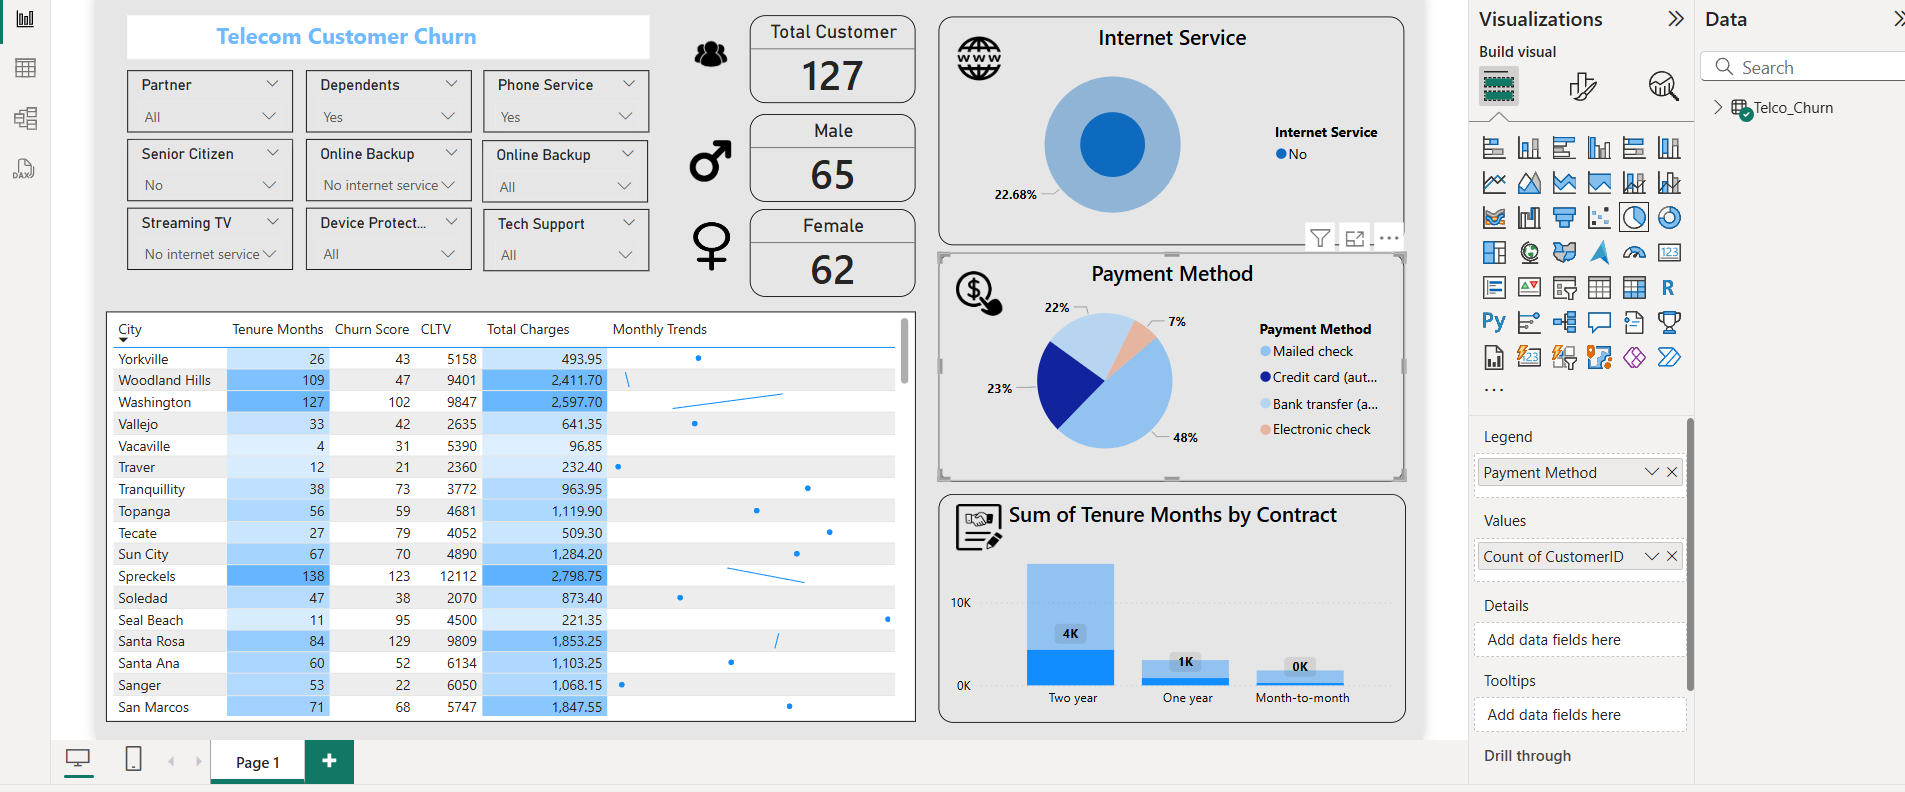

The page's visual inventory and layout, read from the dashboard file:
{"tool":"powerbi","page":{"name":"Page 1","canvas":[1280,720],"ordinal":0},"visuals":[{"type":"card","title":"Total Customer","fields":{"Values":["CountNonNull(Telco_Churn.CustomerID)"]},"box":[630.7,20.2,160.3,85],"z":0},{"type":"card","title":"Female","fields":{"Values":["CountNonNull(Telco_Churn.CustomerID)"]},"box":[630.7,207.6,160.3,84.7],"z":1000},{"type":"card","title":"Male","fields":{"Values":["CountNonNull(Telco_Churn.CustomerID)"]},"box":[630.7,116.2,160.3,84.7],"z":2000},{"type":"columnChart","fields":{"Category":["Telco_Churn.Contract"],"Y":["Sum(Telco_Churn.Tenure Months)"]},"box":[812.6,482,450.8,220.4],"z":3000},{"type":"pieChart","title":"Internet Service","fields":{"Category":["Telco_Churn.Internet Service"],"Y":["CountNonNull(Telco_Churn.CustomerID)"]},"box":[813.7,21.2,449.7,220.4],"z":4000},{"type":"pieChart","title":"Payment Method","fields":{"Y":["CountNonNull(Telco_Churn.CustomerID)"],"Category":["Telco_Churn.Payment Method"]},"box":[813.7,249.4,449.7,220.4],"z":5000},{"type":"tableEx","fields":{"Values":["Telco_Churn.City","Sum(Telco_Churn.Tenure Months)","Sum(Telco_Churn.Churn Score)","Sum(Telco_Churn.CLTV)","Sum(Telco_Churn.Total Charges)","SparklineData(Sum(Telco_Churn.Monthly Charges)_[Telco_Churn.Churn Score])"]},"box":[10,306.1,781.5,396.3],"z":6000},{"type":"slicer","fields":{"Values":["Telco_Churn.Senior Citizen"]},"box":[30.6,140.1,160.3,59.8],"z":7000},{"type":"slicer","fields":{"Values":["Telco_Churn.Partner"]},"box":[30.6,73.5,160,60],"z":8000},{"type":"slicer","fields":{"Values":["Telco_Churn.Dependents"]},"box":[202.3,73.5,160.3,59.8],"z":10000},{"type":"slicer","fields":{"Values":["Telco_Churn.Phone Service"]},"box":[373.9,73.5,160.3,59.8],"z":11000},{"type":"slicer","fields":{"Values":["Telco_Churn.Online Backup"]},"box":[372.8,141.3,160.3,59.8],"z":12000},{"type":"slicer","fields":{"Values":["Telco_Churn.Online Backup"]},"box":[202.3,140.1,160.3,59.8],"z":13000},{"type":"slicer","fields":{"Values":["Telco_Churn.Device Protection"]},"box":[202.3,206.7,160.3,59.8],"z":14000},{"type":"slicer","fields":{"Values":["Telco_Churn.Tech Support"]},"box":[373.9,207.9,160.3,59.8],"z":15000},{"type":"slicer","fields":{"Values":["Telco_Churn.Streaming TV"]},"box":[30.6,206.7,160.3,59.8],"z":16000},{"type":"actionButton","box":[573.3,141.3,40,40],"z":17000},{"type":"actionButton","box":[567.7,218.2,50.1,50.1],"z":18000},{"type":"actionButton","box":[567.7,32.3,50.1,50.1],"z":19000},{"type":"actionButton","box":[830.4,40.1,45,45],"z":20000},{"type":"actionButton","box":[830.4,267.2,45,45],"z":21000},{"type":"actionButton","box":[830.4,492,44.5,44.5],"z":22000},{"type":"textbox","box":[30.2,20.5,504.3,42.2],"z":22001}]}

Visuals, with their boxes on the page's 1280x720 design canvas (x1, y1, x2, y2). These are canvas units, not pixel positions in the 1905x792 screenshot, which may show the page scaled, cropped or inside an application window:
"Total Customer" card: [631,20,791,105]
"Female" card: [631,208,791,292]
"Male" card: [631,116,791,201]
columnChart - Telco_Churn.Contract x Sum(Telco_Churn.Tenure Months): [813,482,1263,702]
"Internet Service" pieChart: [814,21,1263,242]
"Payment Method" pieChart: [814,249,1263,470]
tableEx - Telco_Churn.City x Sum(Telco_Churn.Tenure Months): [10,306,792,702]
slicer - Telco_Churn.Senior Citizen: [31,140,191,200]
slicer - Telco_Churn.Partner: [31,74,191,134]
slicer - Telco_Churn.Dependents: [202,74,363,133]
slicer - Telco_Churn.Phone Service: [374,74,534,133]
slicer - Telco_Churn.Online Backup: [373,141,533,201]
slicer - Telco_Churn.Online Backup: [202,140,363,200]
slicer - Telco_Churn.Device Protection: [202,207,363,266]
slicer - Telco_Churn.Tech Support: [374,208,534,268]
slicer - Telco_Churn.Streaming TV: [31,207,191,266]
actionButton: [573,141,613,181]
actionButton: [568,218,618,268]
actionButton: [568,32,618,82]
actionButton: [830,40,875,85]
actionButton: [830,267,875,312]
actionButton: [830,492,875,536]
textbox: [30,20,534,63]
